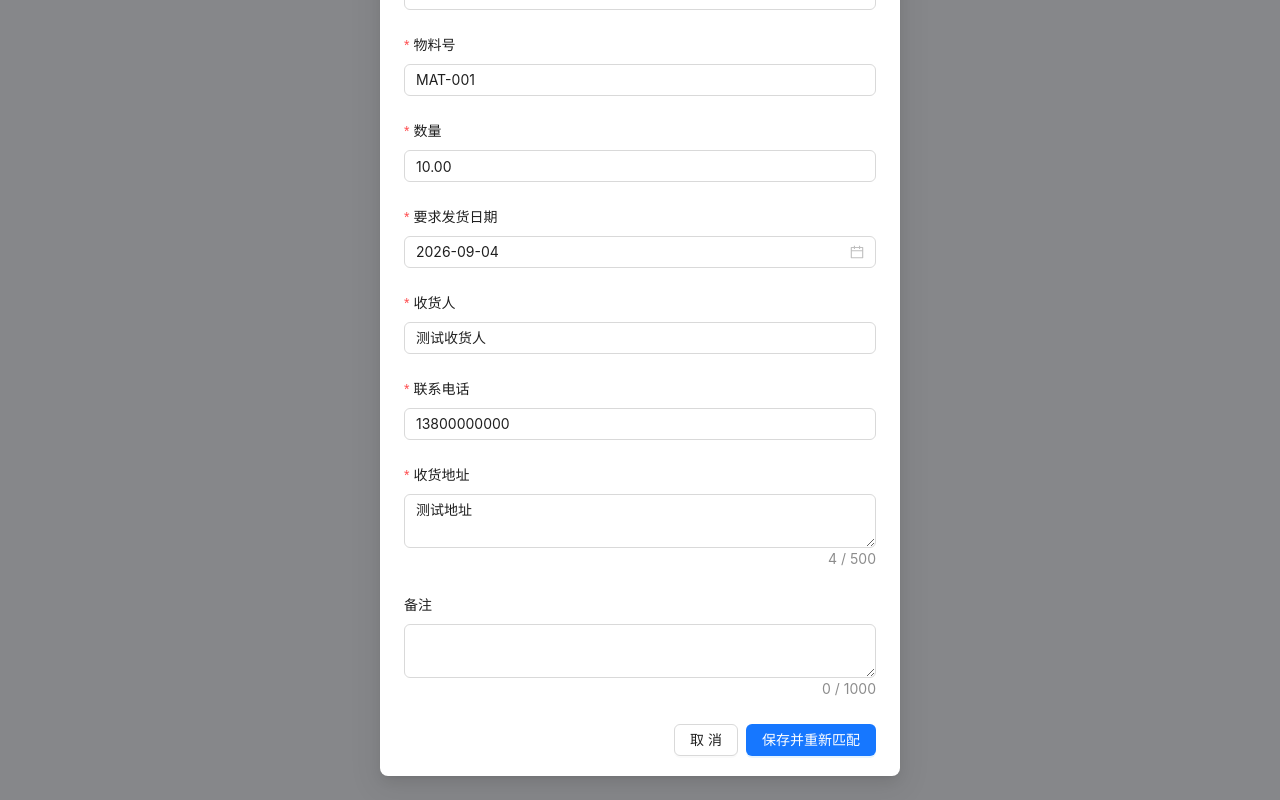
Test: shared Vue shipment editor › keeps the dialog and data available when the server rejects the edit
(page scrolled)
Click the button "保存并重新匹配" at (811, 740), box [746,724,876,756]
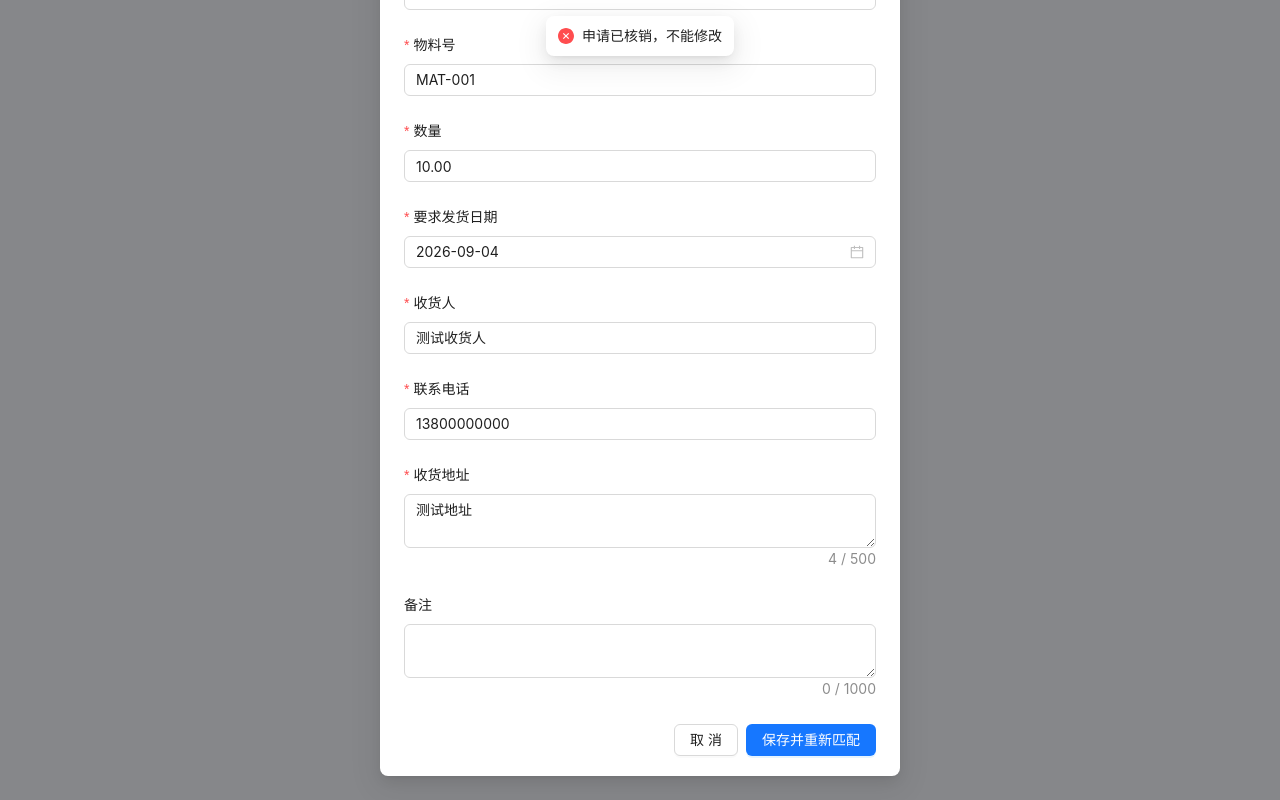
expect the text "申请已核销，不能修改" is shown: met, box [582,27,722,44]
